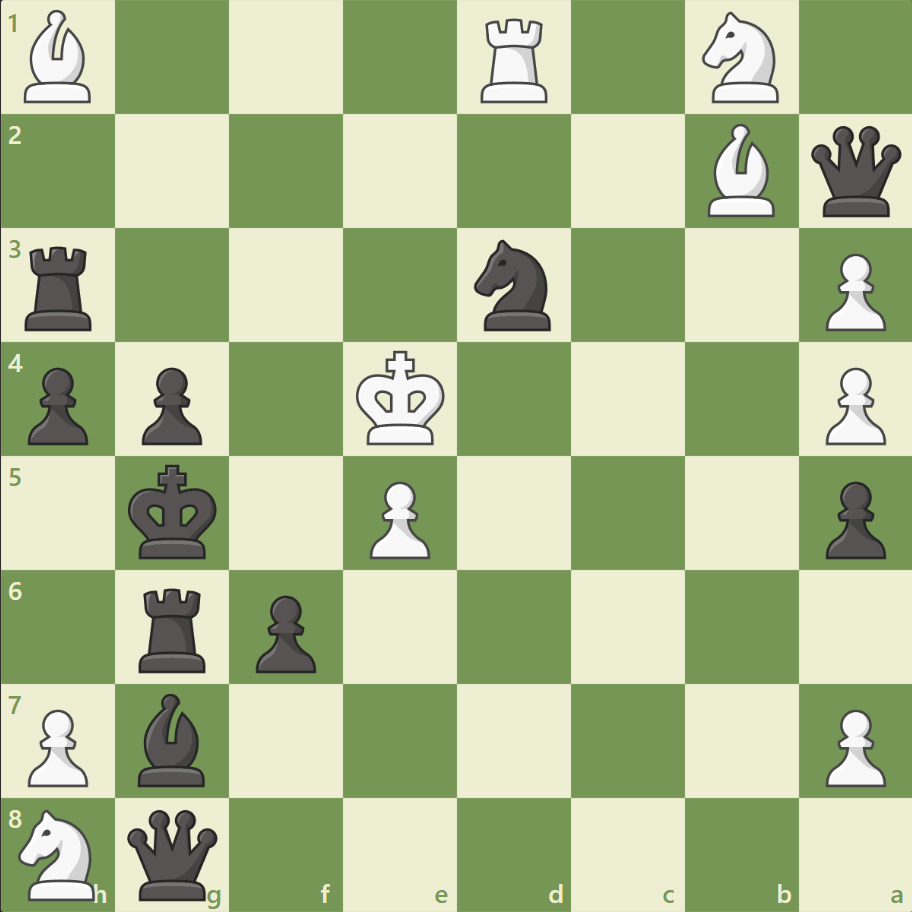B: (17, 6, 101, 109), (698, 120, 782, 222)
K: (351, 344, 451, 452)
N: (692, 7, 789, 110), (11, 802, 108, 904)
P: (20, 700, 95, 791), (815, 700, 889, 791), (361, 473, 435, 564), (815, 359, 889, 450), (815, 246, 889, 337)
R: (473, 12, 556, 109)
b: (131, 687, 215, 790)
k: (124, 458, 224, 566)
n: (465, 234, 562, 337)
p: (247, 586, 322, 677), (133, 359, 208, 450), (20, 359, 95, 450), (815, 473, 889, 564)
q: (805, 122, 904, 222), (124, 804, 223, 903)
r: (19, 239, 102, 336), (133, 579, 215, 676)
